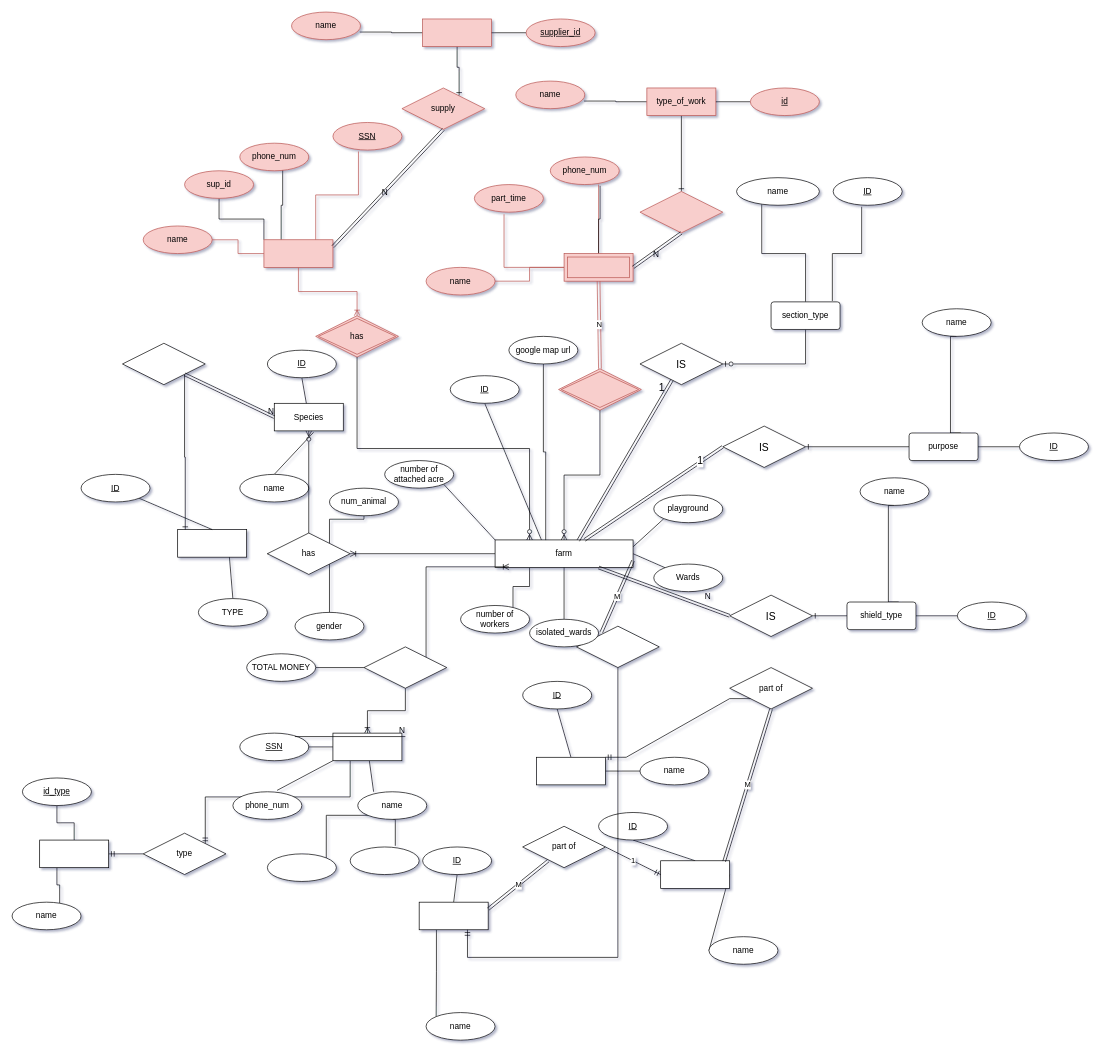
Image size: 1105x1056. Some labels were removed from this diagram. The centre of each missing label's shape, as x and y in pixels:
city: the point at 695,874
contain: the point at 163,364
f_name: the point at 384,860
gavernorate: the point at 570,771
l_name: the point at 301,867
located at: the point at 617,646
make: the point at 681,212
own: the point at 405,667
platoon: the point at 212,543
SUPPLIER: the point at 298,253
supplies_type: the point at 457,32
type_user: the point at 74,853
User: the point at 367,746
Village: the point at 453,915
work: the point at 599,389
workers: the point at 598,267
